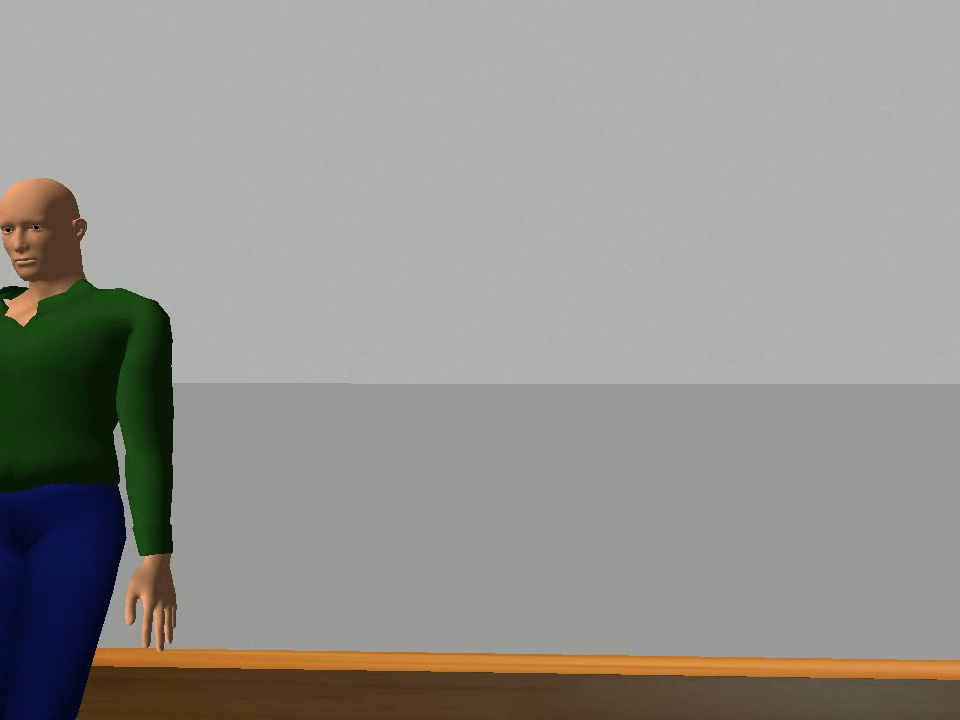person: (1, 174, 181, 720)
